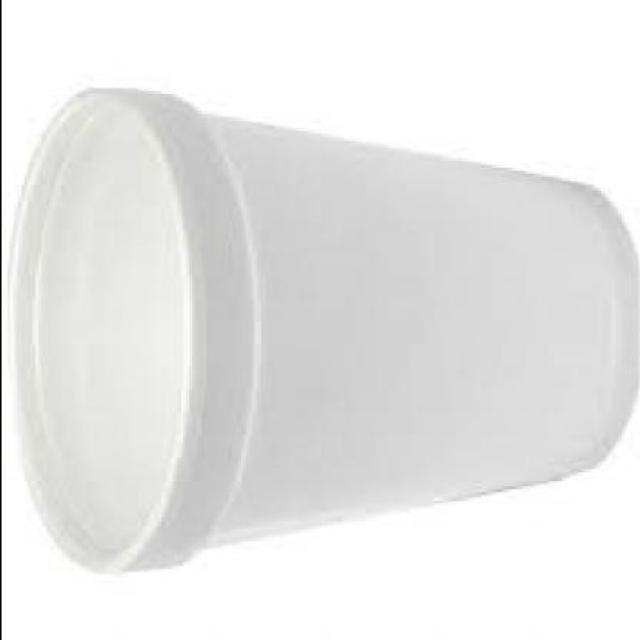PAPER: (6, 94, 637, 580)
